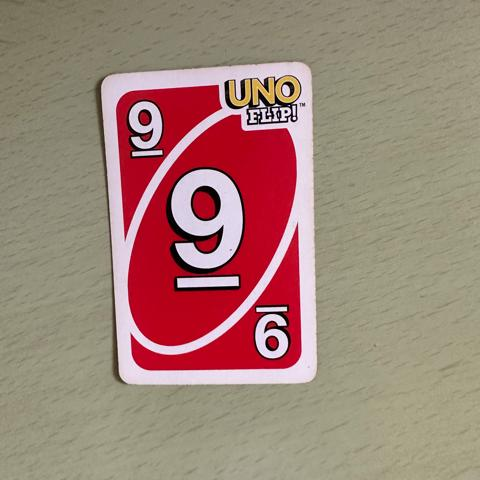2_yellow: (169, 169, 247, 291), (121, 96, 176, 160), (249, 304, 302, 365)
